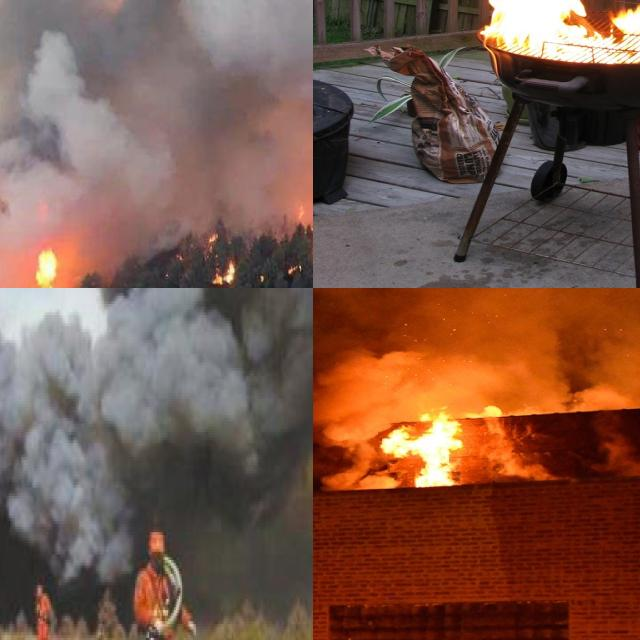fire: (371, 406, 503, 488), (17, 243, 63, 288), (202, 227, 235, 285)
smoke: (0, 288, 313, 585), (0, 0, 313, 288), (313, 288, 640, 442), (590, 440, 640, 482), (316, 471, 397, 494)
